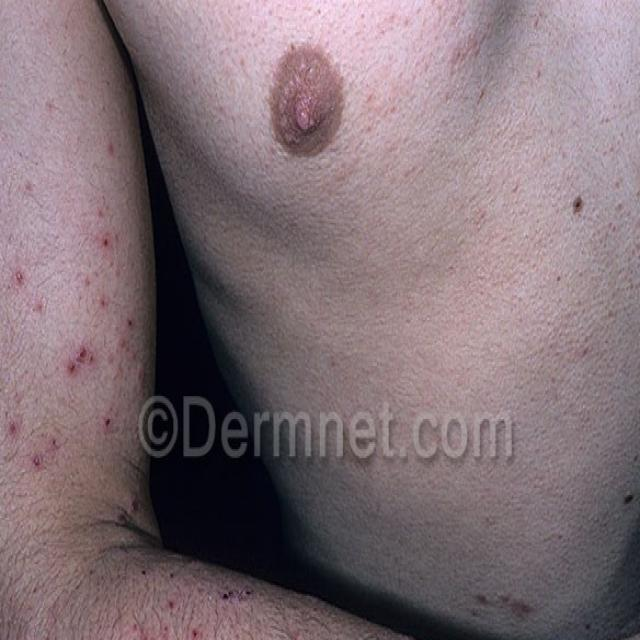Viral Infections: (106, 553, 640, 640), (0, 152, 133, 495)
